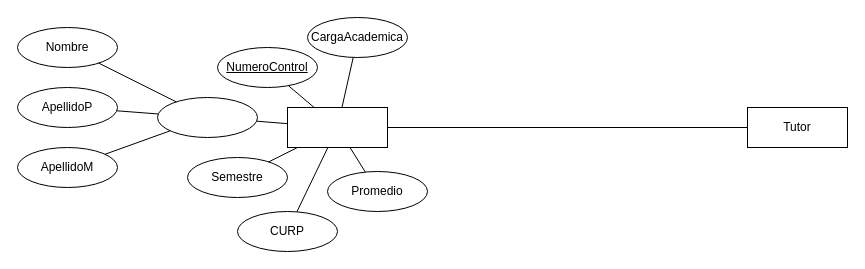
The diagram is 865 pixels wide and 269 high, and some of its shapes have lost their labels. Here are the shapes that lost their labels. From the top down, the centre of each, then its label:
At point (207, 117): "NombreAlumno".
At point (337, 127): "Alumnos".
